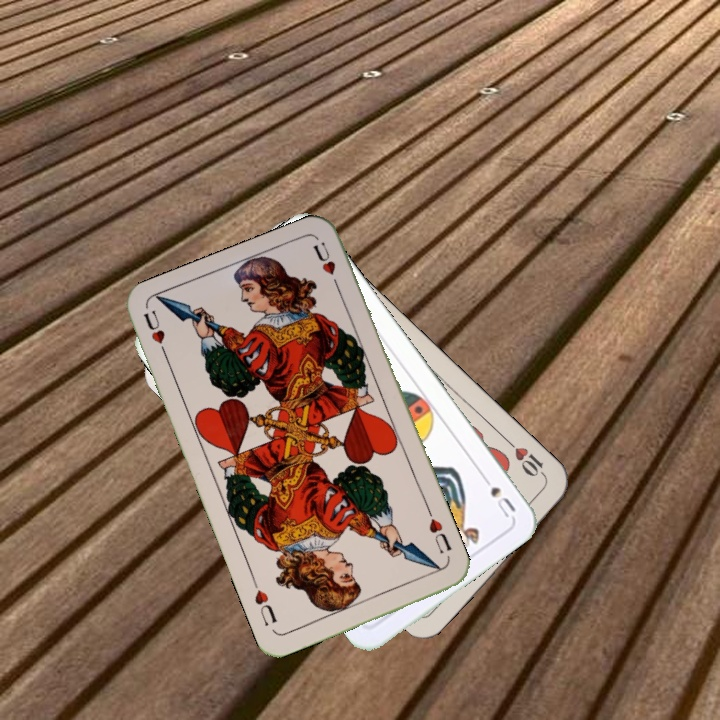H10: (503, 436, 550, 482)
HU: (139, 307, 171, 363), (424, 514, 455, 556)
SU: (476, 468, 519, 520)
